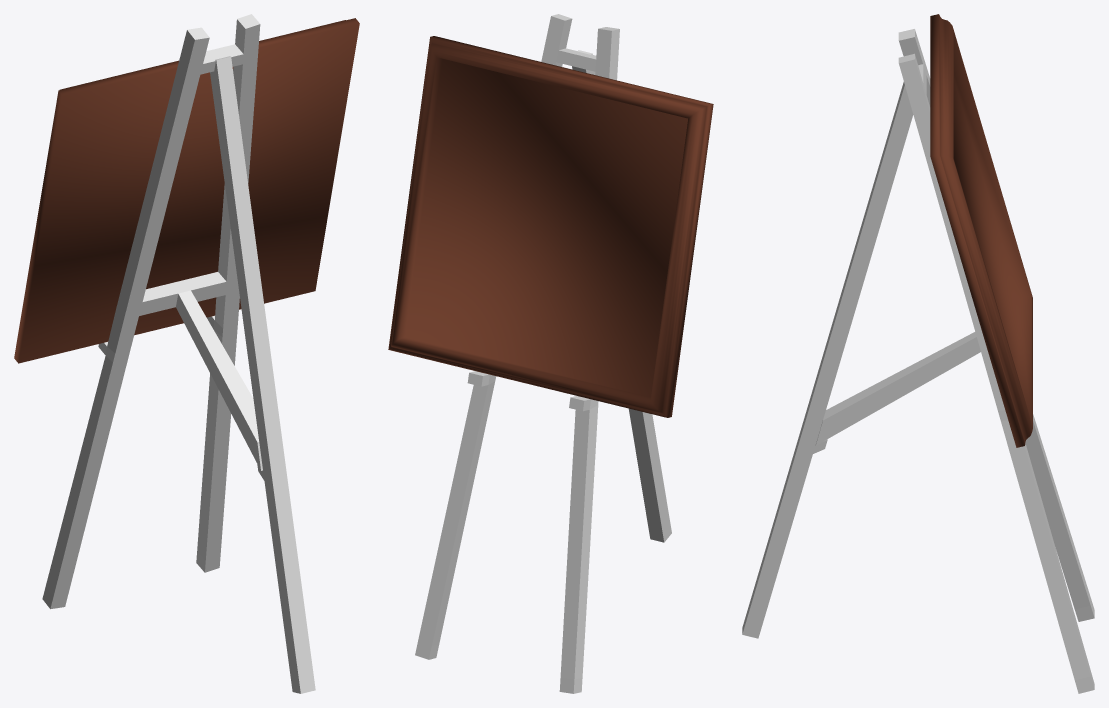
File: SpuzzleFrame.fbx
The picture shows the model from 3 angles, left to right: view 1: azimuth 30°, elevation 25°; view 2: azimuth 150°, elevation 25°; view 3: azimuth 270°, elevation 25°; orthographic projection. The views are drawn at different scales.
Parts seen in each view (by area): view 1: Frame, Frame Stand; view 2: Frame, Frame Stand; view 3: Frame Stand, Frame.
Boxes of the visible parts, x1,y1,x2,y2 form: Frame: [14, 18, 359, 363]; Frame Stand: [42, 14, 315, 693]; Frame: [388, 36, 713, 417]; Frame Stand: [415, 14, 671, 693]; Frame Stand: [742, 29, 1094, 693]; Frame: [930, 14, 1032, 447].
Bounding box in the file's own units: 50 × 101 × 52.94.
